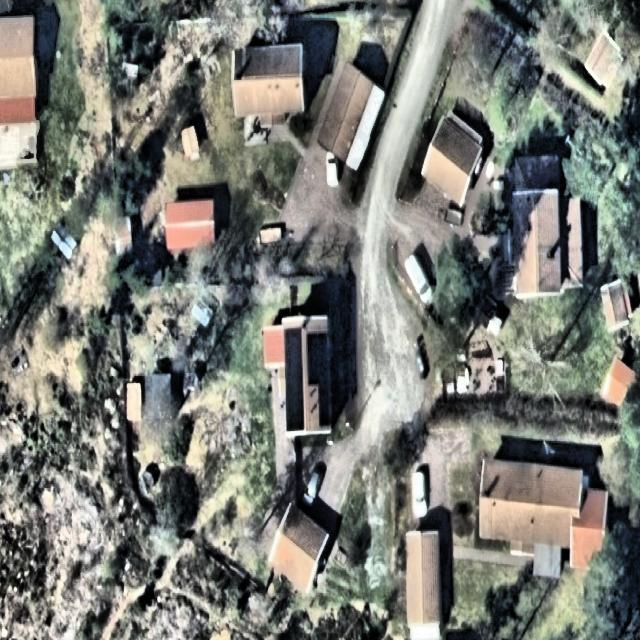roof_pv: (282, 329, 307, 438), (308, 329, 329, 385), (319, 382, 330, 427)
